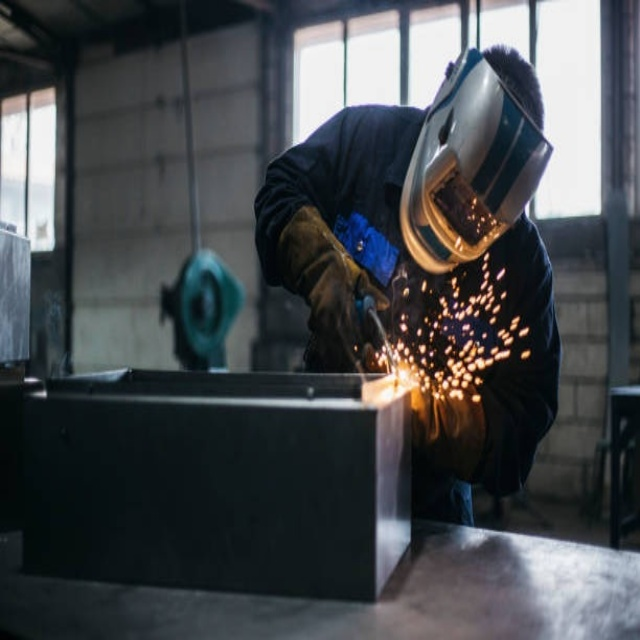Guantes: (273, 198, 390, 373)
